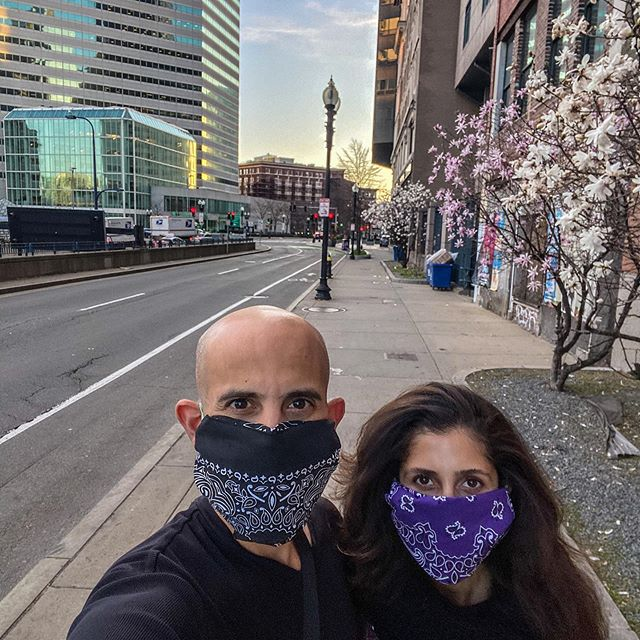homemade: (195, 408, 347, 551), (392, 477, 526, 587)
